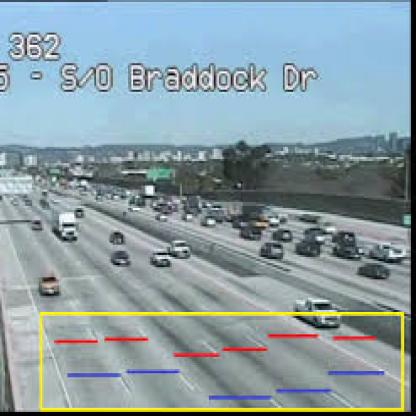car: (287, 284, 338, 338), (349, 254, 391, 297), (245, 242, 304, 272), (33, 270, 85, 303), (370, 236, 415, 274), (49, 208, 80, 252), (160, 229, 196, 266), (334, 226, 364, 265), (293, 233, 323, 268), (141, 242, 174, 273), (70, 205, 96, 234), (198, 210, 222, 238), (112, 246, 133, 274), (25, 215, 44, 236), (109, 228, 129, 246), (153, 210, 171, 224)
